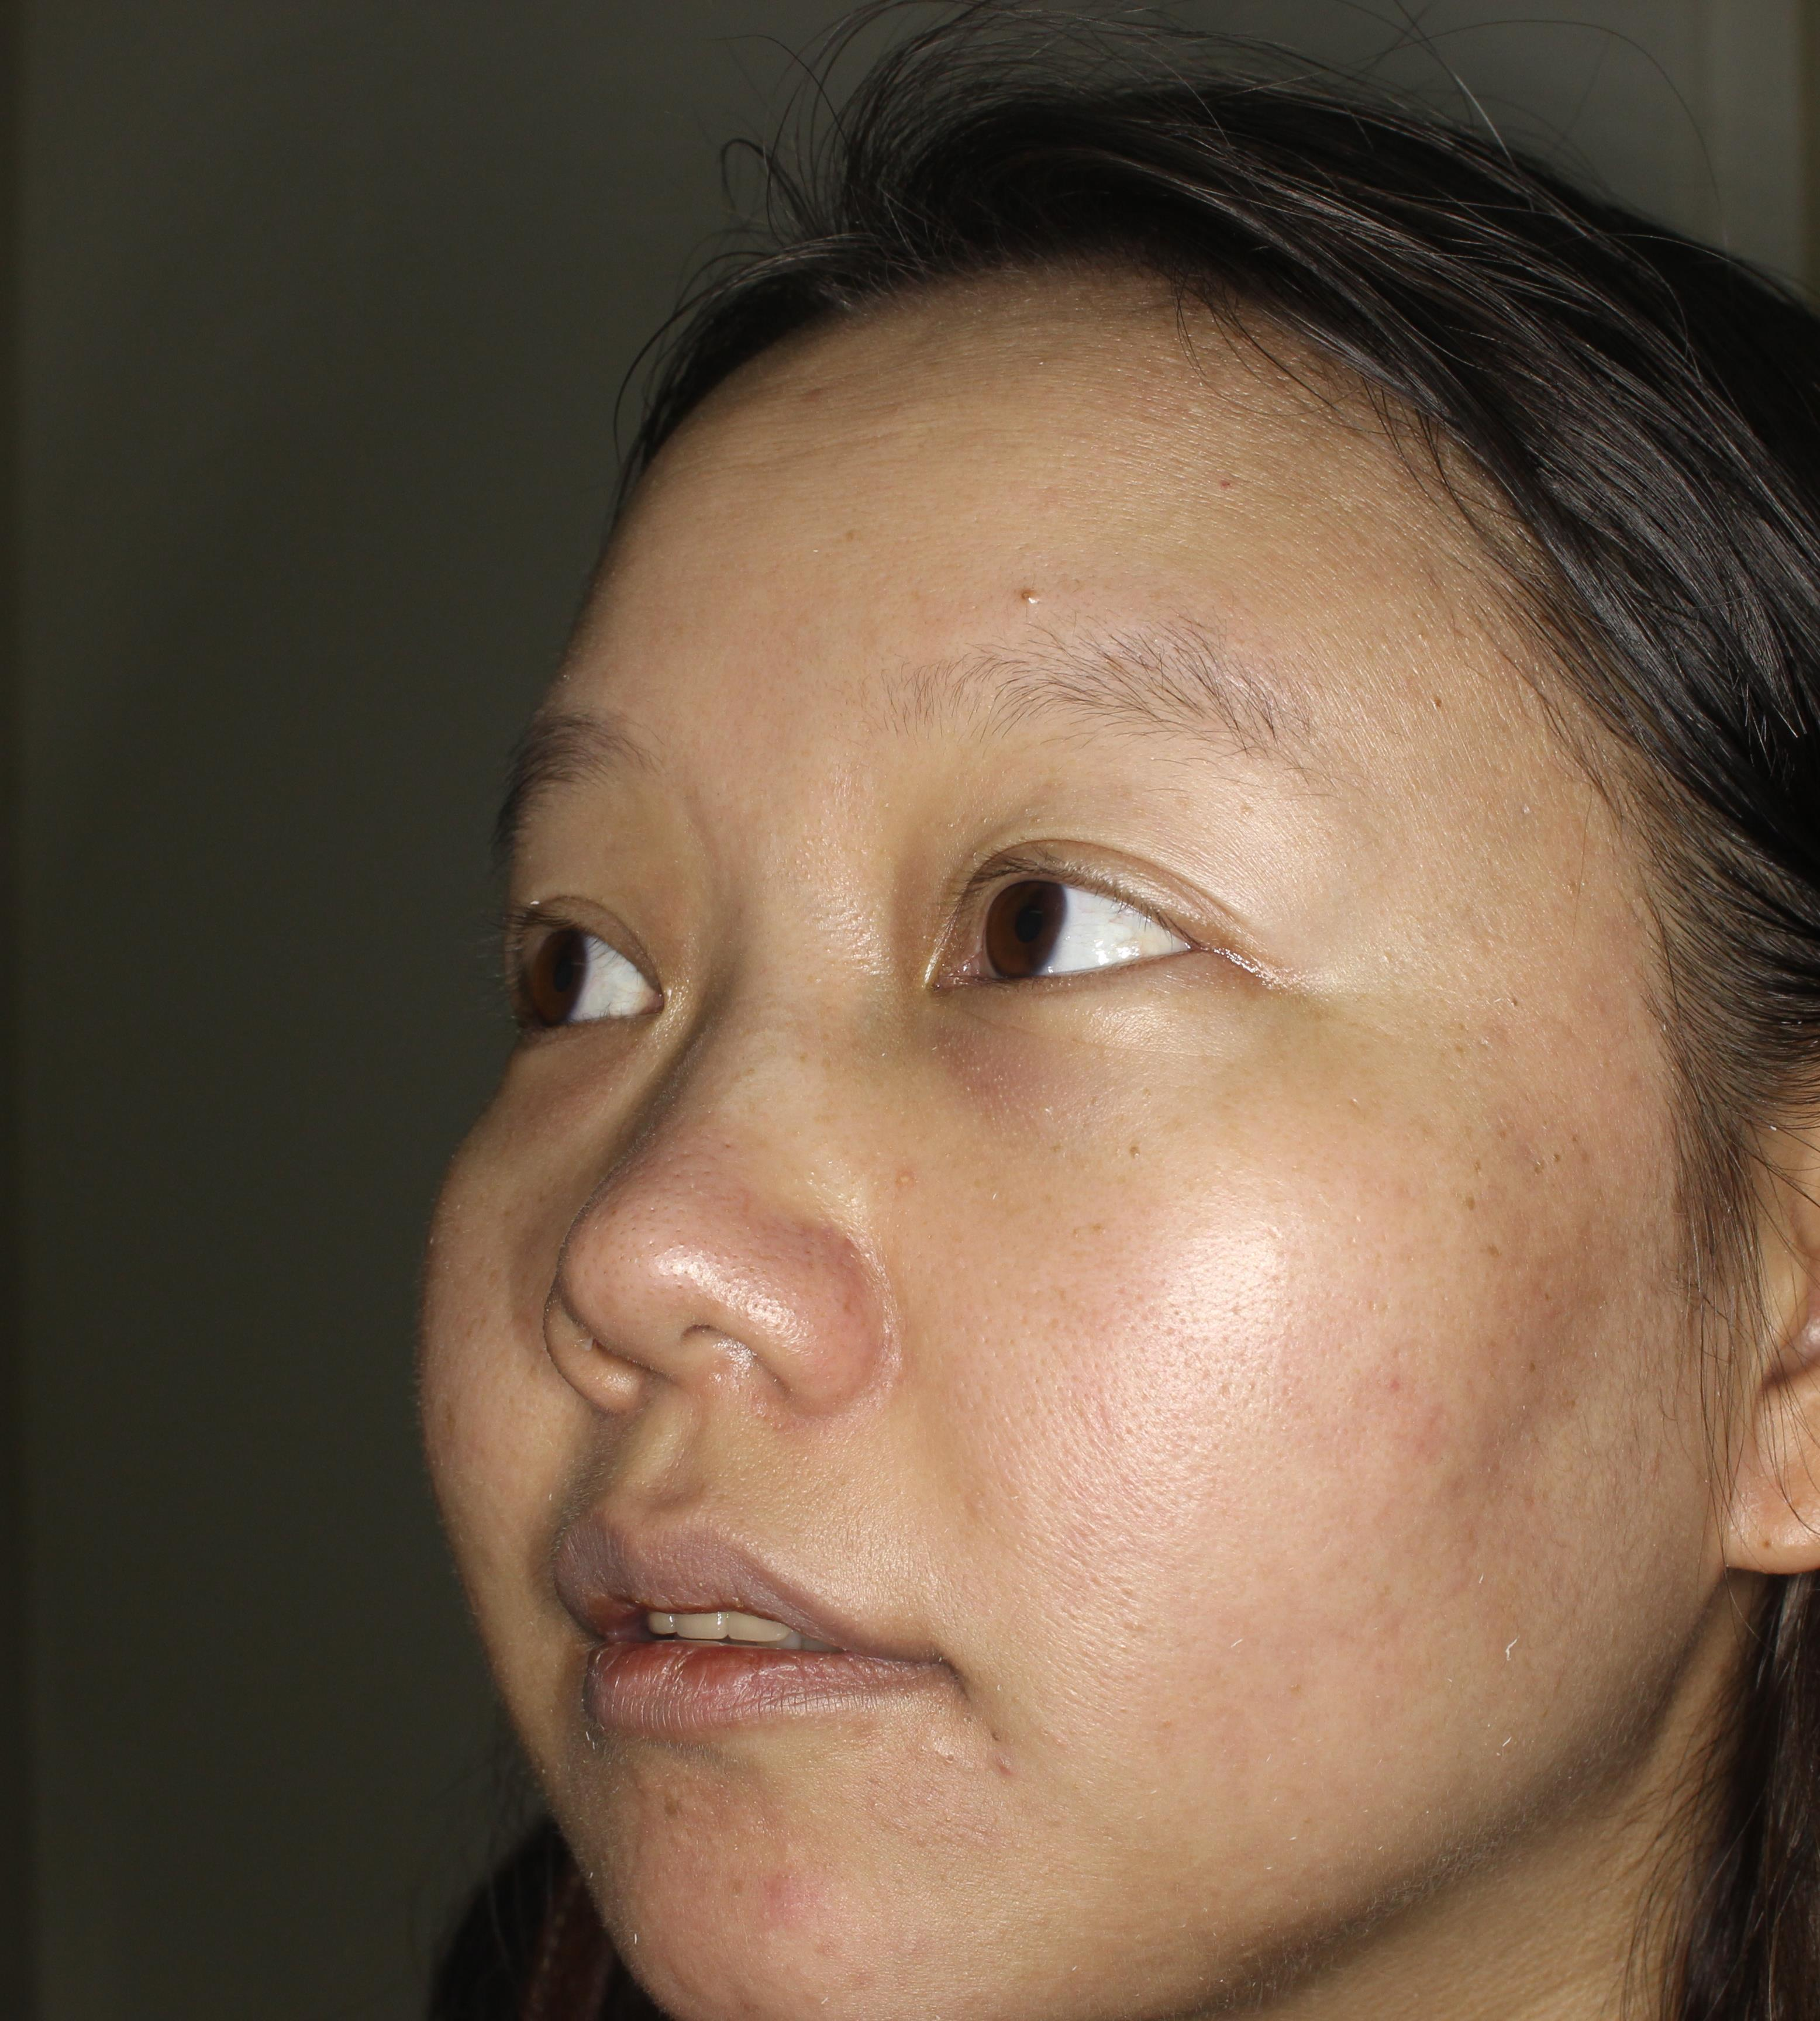fore: (719, 1854, 834, 1944)
